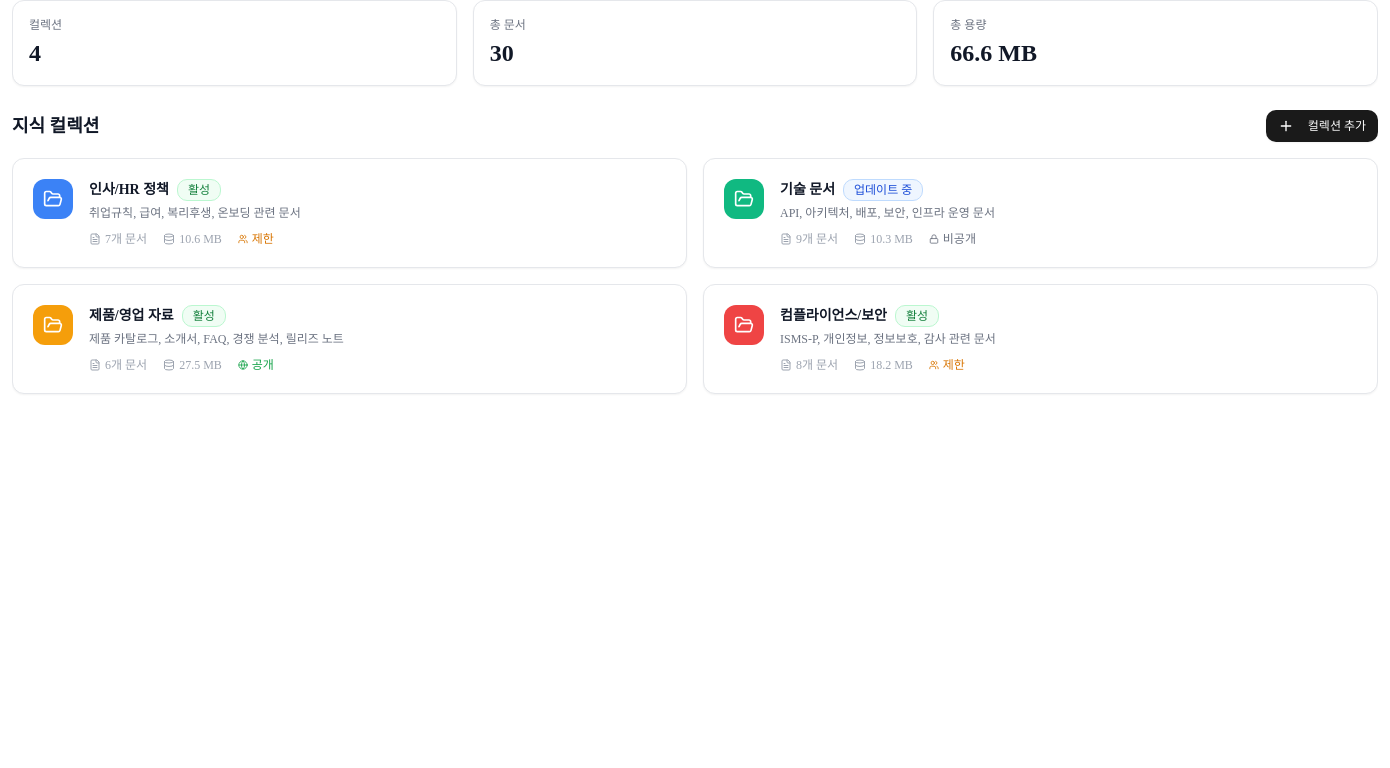
Scenario: KnowledgeBaseView — Flow QA Tests › Flow 3: Cross-Collection Navigation › navigating between collections resets search state
# Go to first collection and search
Click the button "인사/HR 정책 활성 취업규칙, 급여, 복리후생, 온보딩 관련 문서 7개 문서 10.6 MB 제한" at point(53, 199), box 12,158 -> 687,268
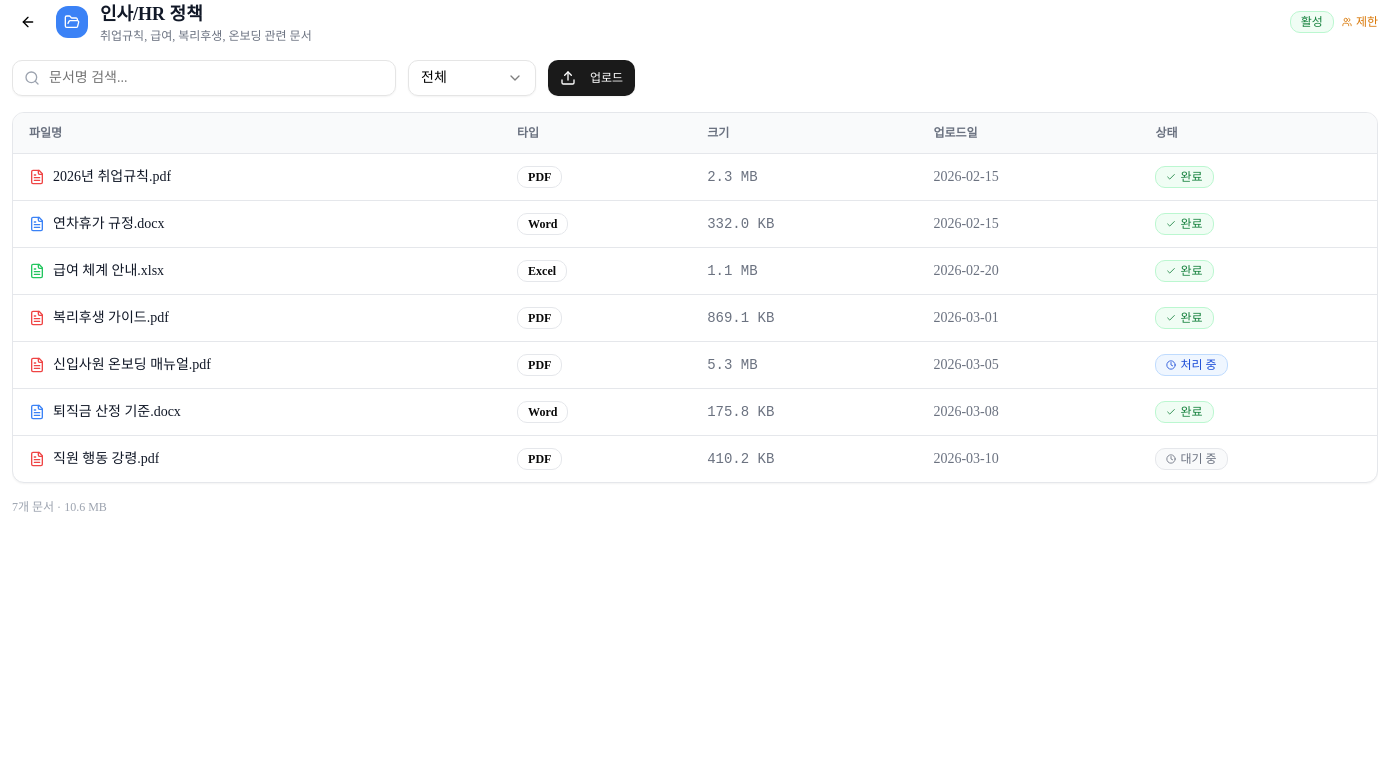
Type "test" into the field named "문서 검색" at point(204, 78), box 12,60 -> 396,96
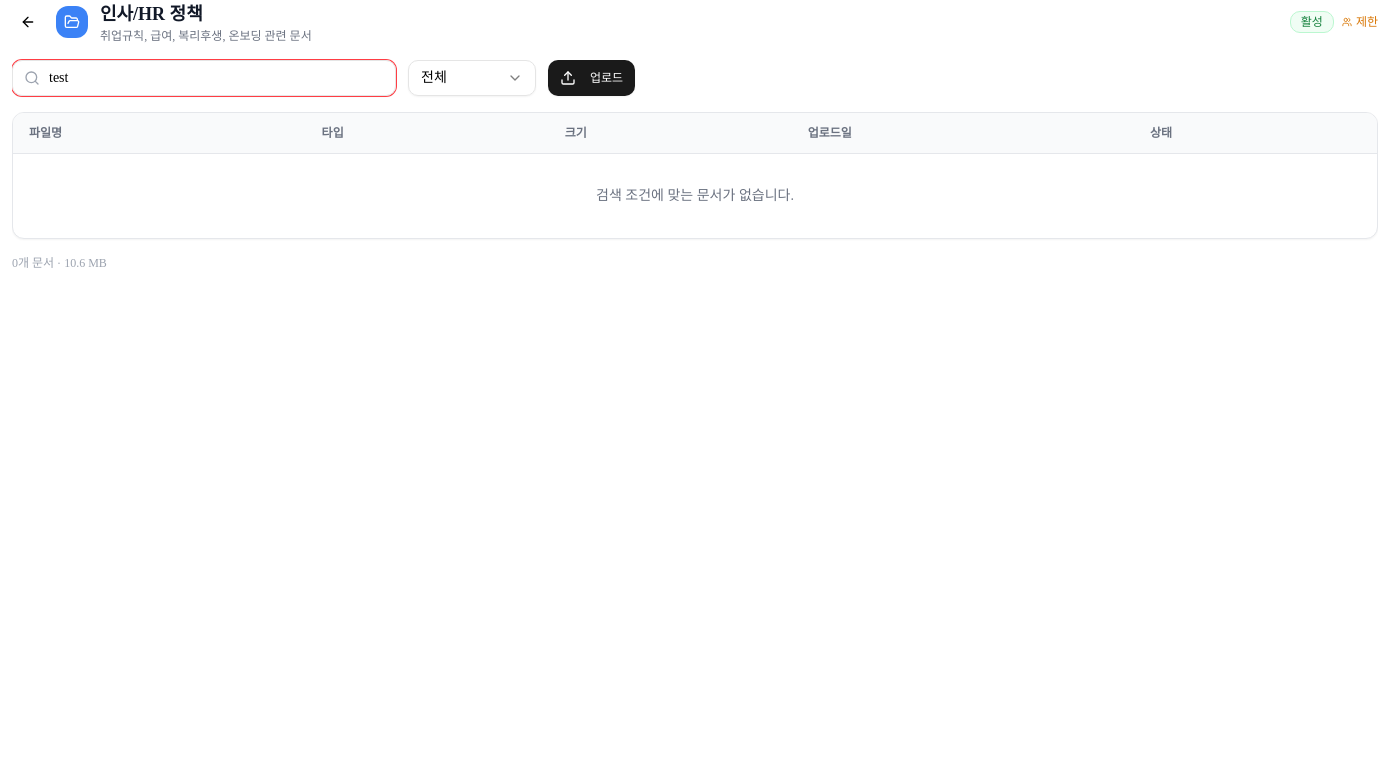
#  Go back
Click the button named "컬렉션 목록으로 돌아가기" at point(28, 22), box 12,6 -> 44,38
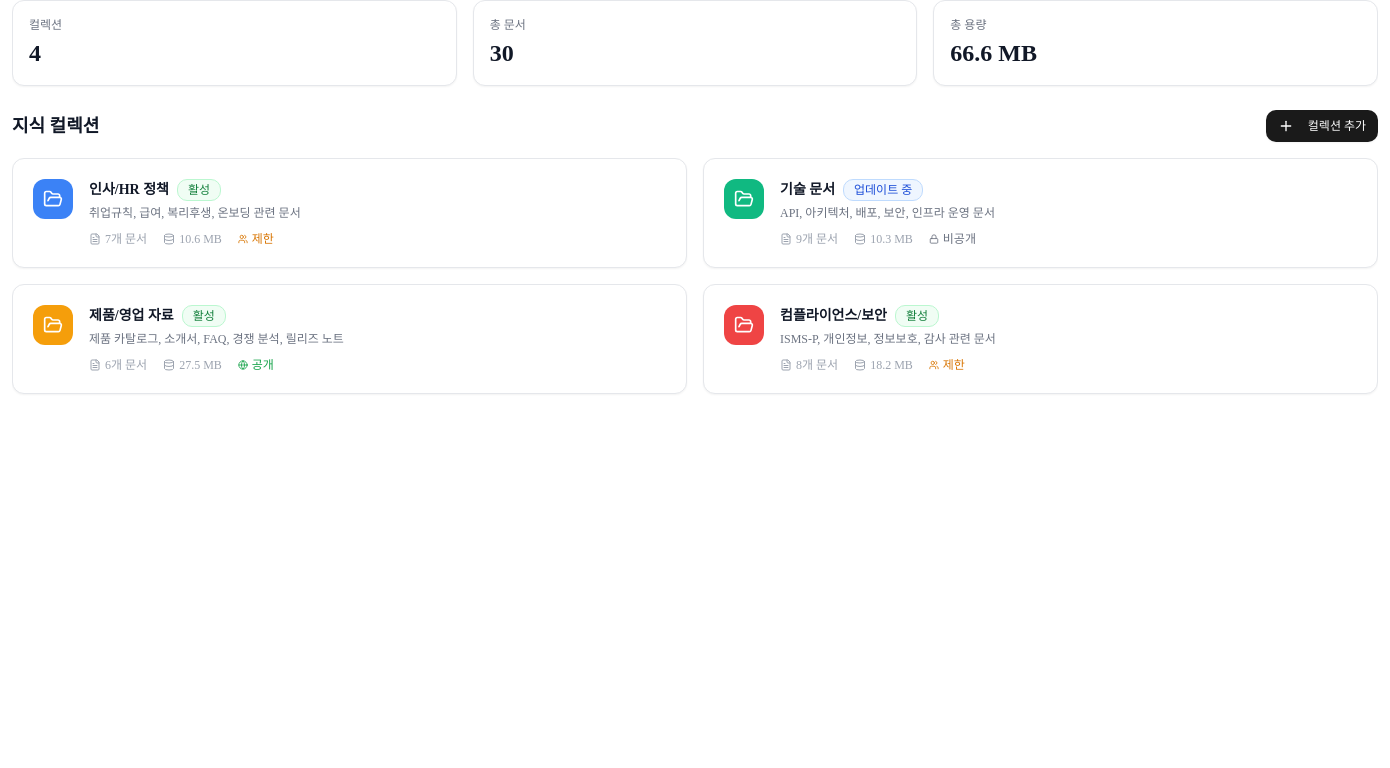
# Go to second collection
Click the button "기술 문서 업데이트 중 API, 아키텍처, 배포, 보안, 인프라 운영 문서 9개 문서 10.3 MB 비공개" at point(744, 199), box 703,158 -> 1378,268
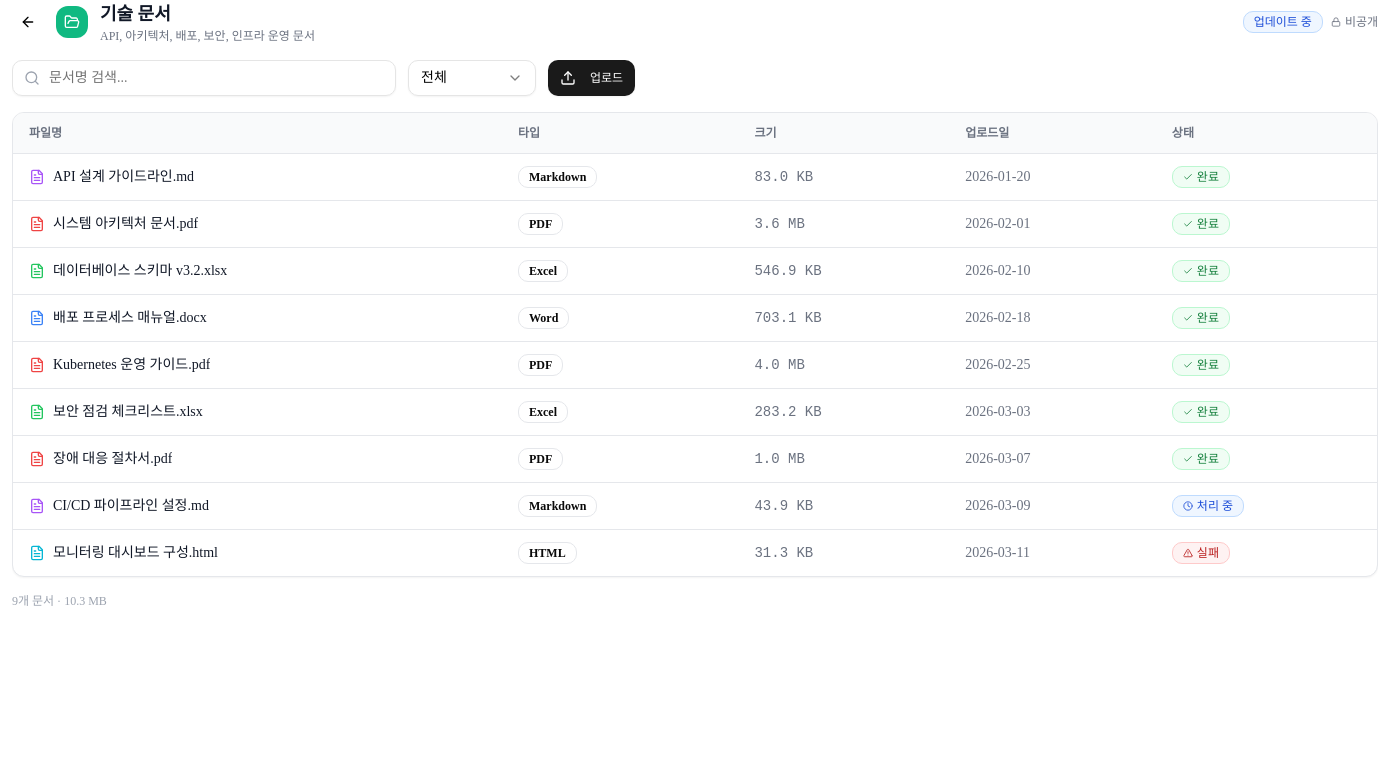
Result: the field named "문서 검색" is empty at 12,60 -> 396,96
Result: the text "API 설계 가이드라인.md" is shown at 53,166 -> 194,186
Result: the text "시스템 아키텍처 문서.pdf" is shown at 53,214 -> 198,234
